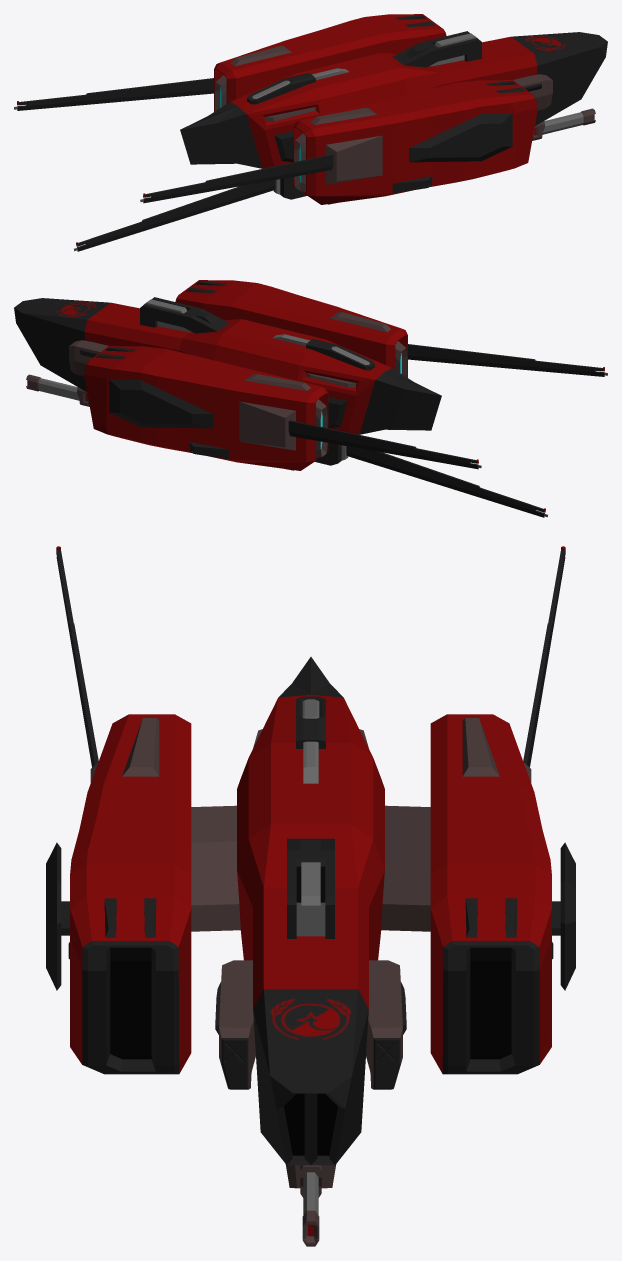
Rendered from HeroShip.fbx.
3 views of the same model, one above another, from view 1: azimuth 30°, elevation 25°; view 2: azimuth 150°, elevation 25°; view 3: azimuth 270°, elevation 25° (orthographic). The views are drawn at different scales.
Visible parts, largest first — view 1: Body, Cannon; view 2: Body, Cannon; view 3: Body, Cannon.
Part boxes in pixels (box(x1,y1,x2,y2)): Body: box(14, 14, 607, 251); Cannon: box(532, 108, 595, 140); Body: box(14, 280, 607, 517); Cannon: box(26, 374, 89, 406); Body: box(46, 546, 575, 1188); Cannon: box(300, 1165, 321, 1246).
Bounding box in the file's own units: 621 × 139 × 269.
Materials: 3 (3 with a texture image).
